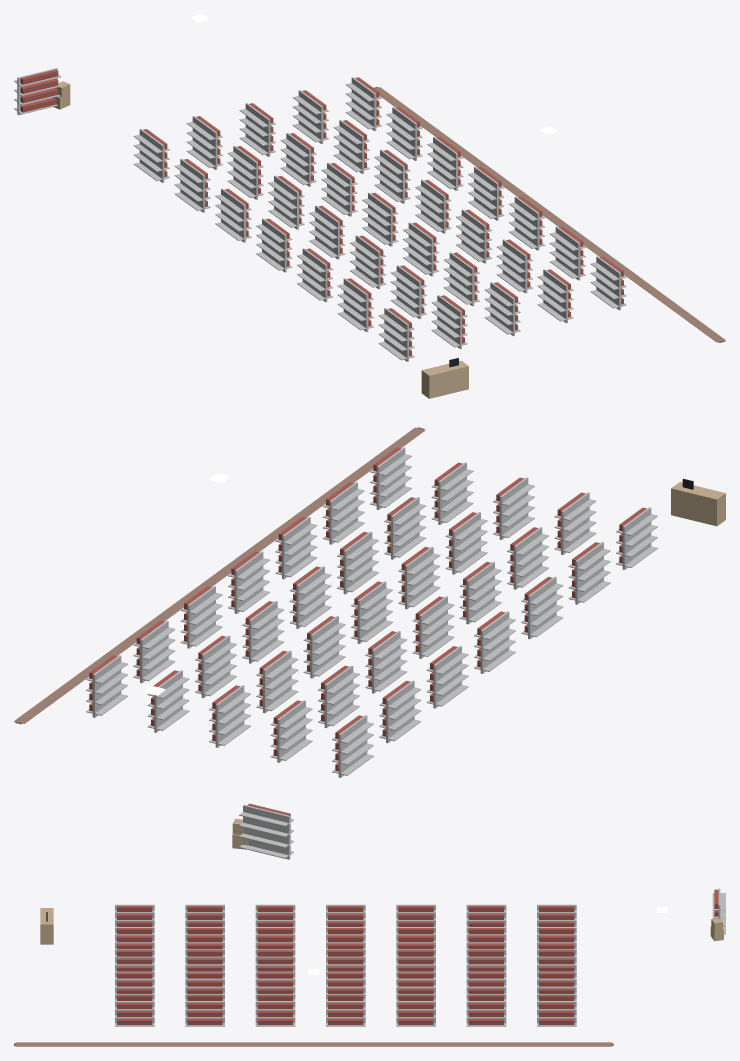
The model's file is fine-s0.glb.
The picture shows the model from 3 angles, top to bottom: view 1: azimuth 30°, elevation 25°; view 2: azimuth 150°, elevation 25°; view 3: azimuth 270°, elevation 25°; orthographic projection. The views are drawn at different scales.
Visible parts, largest first — view 1: soft-s0, shelving.000, shop-counter.000, shelf.005, shelf.007, shelf.033, shelf.014, shelf.032, shelf.011, shelf.012, shelf.019, shelf.021 (+26 smaller); view 2: soft-s0, shelving.000, shop-counter.000, shelf.007, shelf.009, shelf.023, shelf.027, shelf.032, shelf.004, shelf.017, shelf.018, shelf.022 (+26 smaller); view 3: soft-s0, shelf.029, shelf.032, shelf.028, shelf.030, shelf.031, shelf.033, shelf.034, shelf.015, shelf.018, shelf.001, shelf.004 (+27 smaller).
Boxes of the visible parts, x1,y1,x2,y2 form: soft-s0: (373, 87, 725, 342); shelving.000: (14, 68, 61, 115); shop-counter.000: (421, 358, 468, 398); shelf.005: (337, 278, 373, 332); shelf.007: (186, 116, 222, 169); shelf.033: (549, 226, 585, 280); shelf.014: (239, 103, 275, 156); shelf.032: (509, 196, 545, 250); shelf.011: (350, 235, 386, 289); shelf.012: (390, 265, 426, 319); shelf.019: (443, 252, 479, 306); shelf.021: (292, 90, 328, 143); soft-s0: (14, 427, 425, 724); shelving.000: (239, 803, 293, 859); shop-counter.000: (671, 478, 725, 526); shelf.007: (270, 700, 312, 762); shelf.009: (365, 631, 407, 693); shelf.023: (242, 601, 284, 663); shelf.027: (431, 462, 473, 524); shelf.032: (275, 516, 317, 579); shelf.004: (521, 576, 563, 639); shelf.017: (351, 581, 392, 643); shelf.018: (398, 546, 440, 609); shelf.022: (195, 635, 236, 698); soft-s0: (14, 1042, 613, 1046); shelf.029: (466, 994, 506, 1026); shelf.032: (255, 994, 295, 1026); shelf.028: (537, 994, 576, 1026); shelf.030: (396, 994, 435, 1026); shelf.031: (326, 994, 365, 1026); shelf.033: (185, 994, 224, 1026); shelf.034: (115, 994, 154, 1026); shelf.015: (466, 949, 506, 971); shelf.018: (255, 949, 295, 971); shelf.001: (466, 904, 506, 926); shelf.004: (255, 904, 295, 926).
Size of the model in its own units: 13.63 by 3.69 by 32.39.
